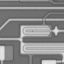dust: (31, 29, 34, 32), (25, 30, 28, 32)
